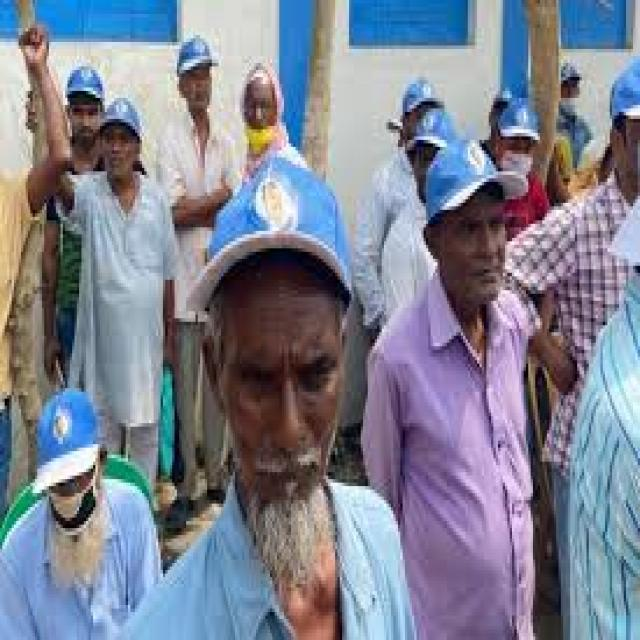cap: (186, 154, 377, 388), (414, 143, 531, 270), (23, 385, 102, 500), (95, 98, 154, 168), (172, 28, 221, 108), (56, 63, 112, 129), (609, 59, 640, 171), (496, 98, 540, 175), (393, 77, 454, 119), (559, 53, 584, 109)
